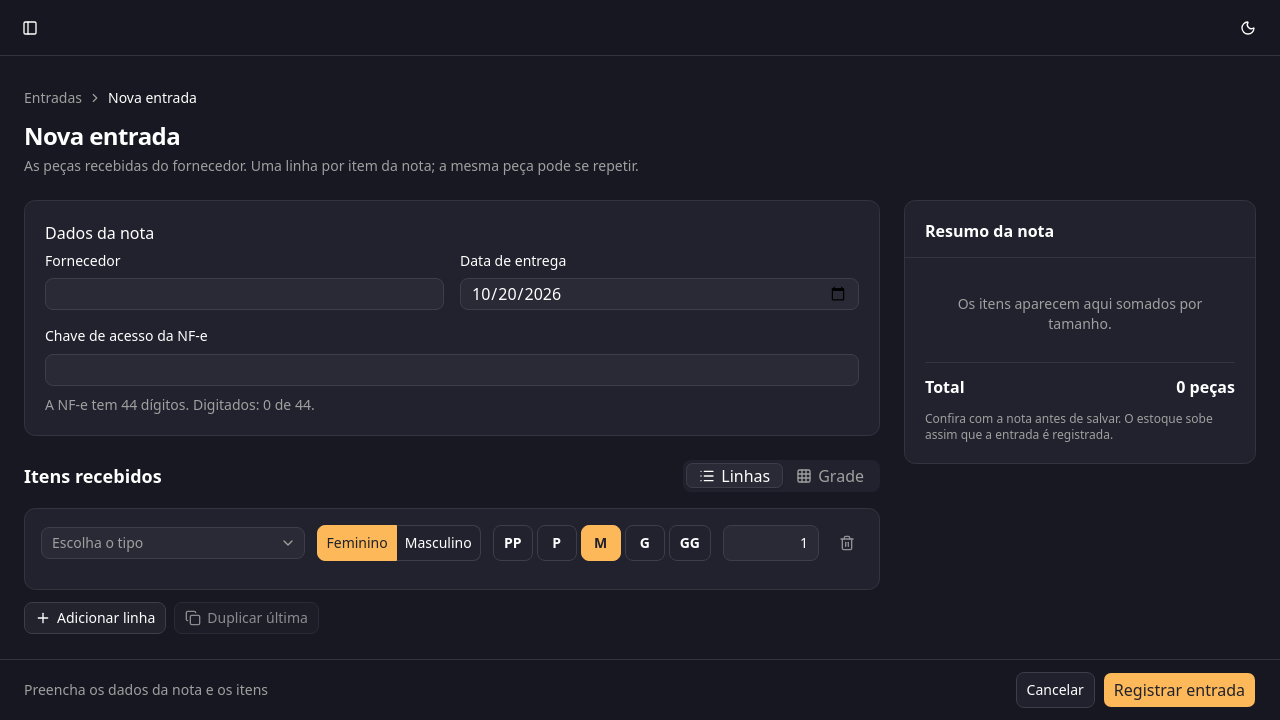
Test: EntradaFormPage › aponta os campos da nota que faltam
Expected: the dropdown named "Tipo da linha 1" is shown, [41,526,306,558]
Click the button "Registrar entrada": coordinates (1179, 690) [1103,672,1256,708]
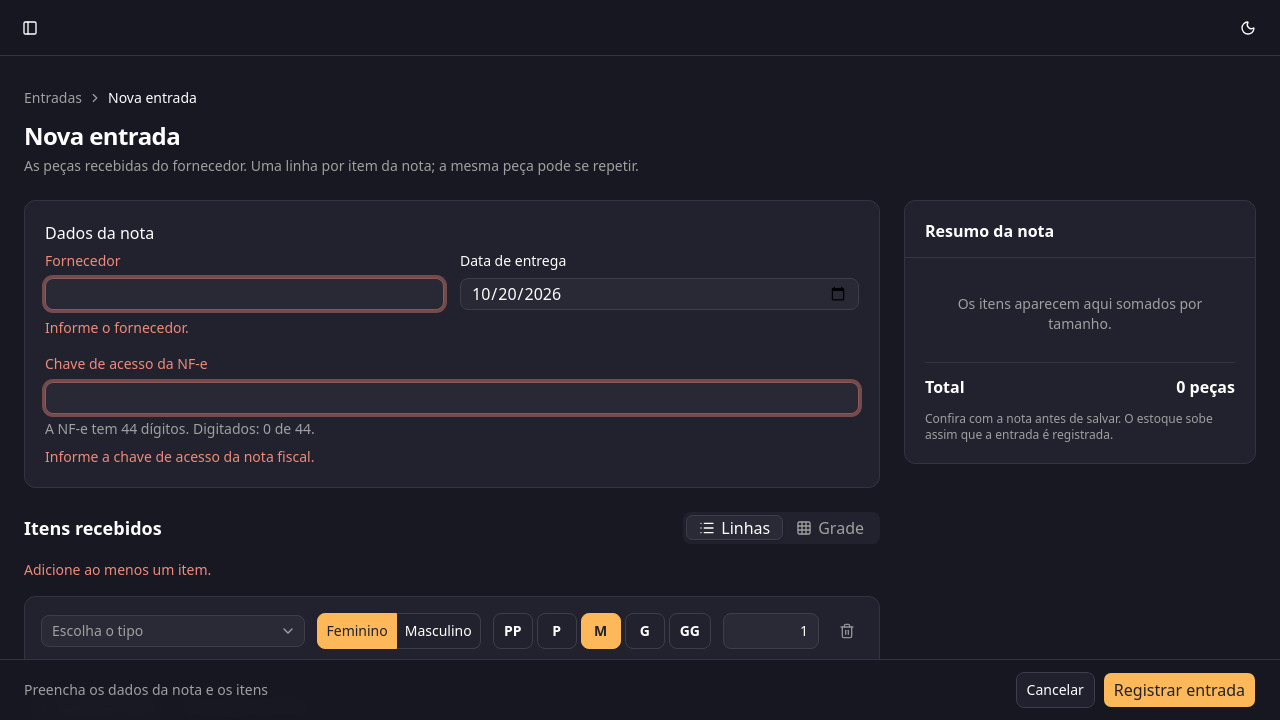
Result: the text "Informe o fornecedor." is shown at [45,318,189,337]
